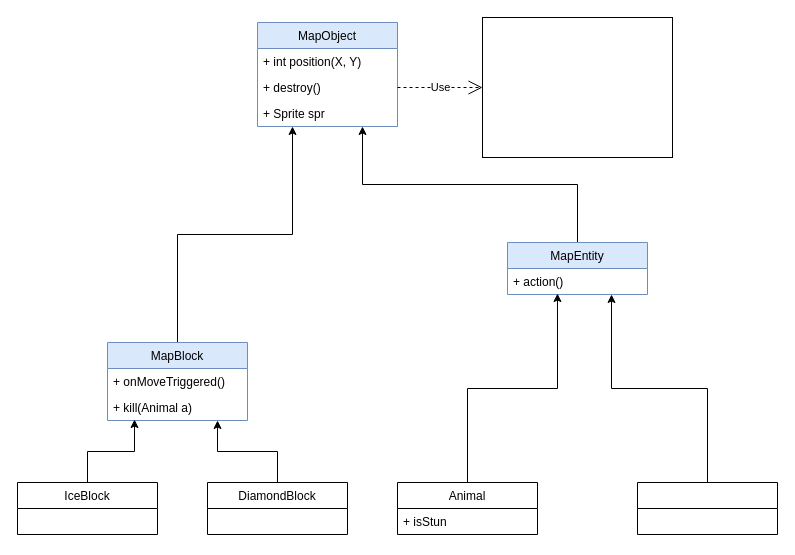
This 795x555 diagram has some shape labels left out. Here are the shapes that lost their labels. From the top down, the centre of each, then its label:
At (x=577, y=87): "<<Move>> Interface + goLeft() + goRight() + goUp() + goDown()".
At (x=707, y=508): "Penguin".
